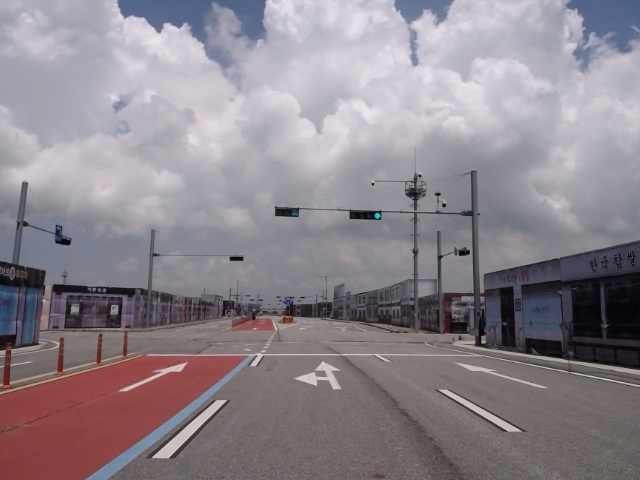straight_green_4: (348, 209, 382, 220)
